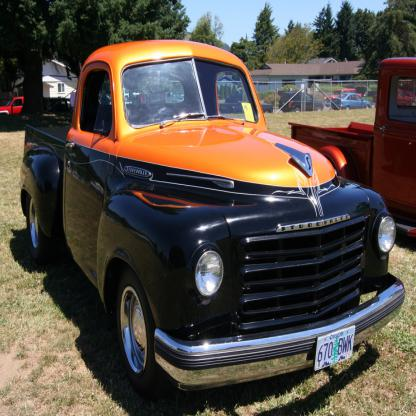Car: (18, 43, 406, 380), (291, 56, 416, 242), (326, 88, 374, 110), (280, 91, 324, 111), (0, 96, 26, 115)
Truck: (20, 40, 406, 392), (288, 57, 416, 236)
